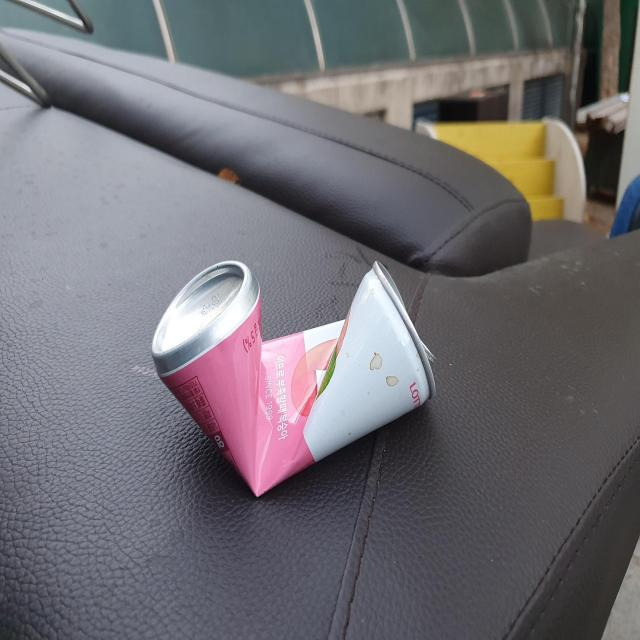can: (152, 260, 435, 496)
